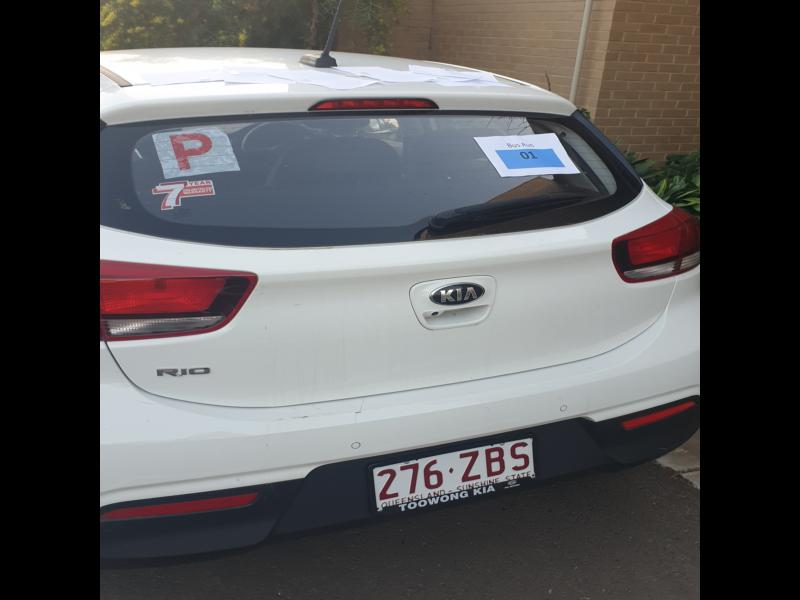BusRun: (498, 148, 565, 169)
PlateNo: (372, 436, 537, 511)
